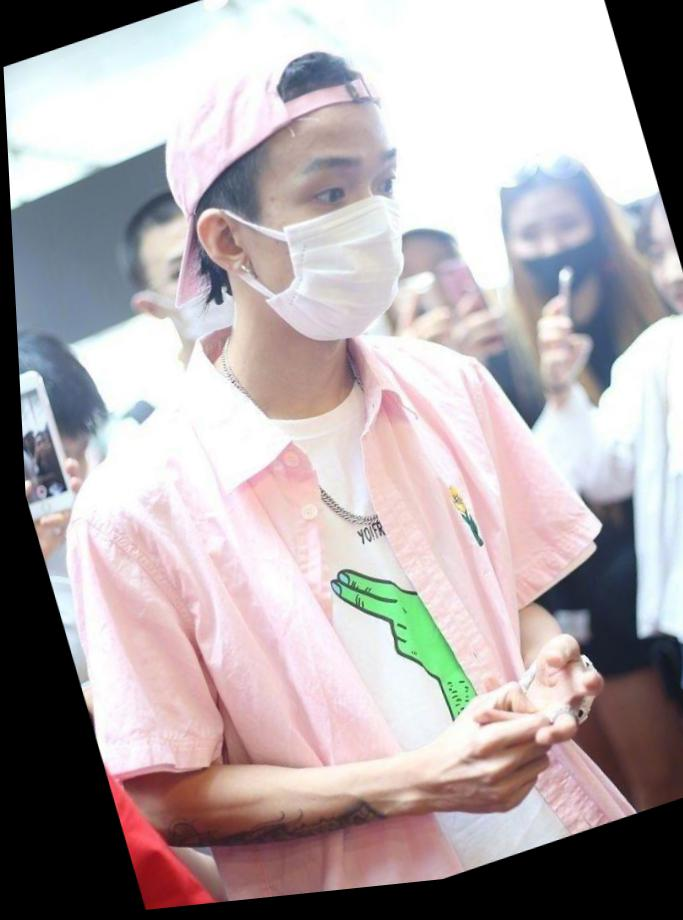NONE: (642, 242, 683, 339)
OK: (219, 124, 433, 374), (142, 224, 272, 361)
WRONG: (499, 203, 609, 319)
